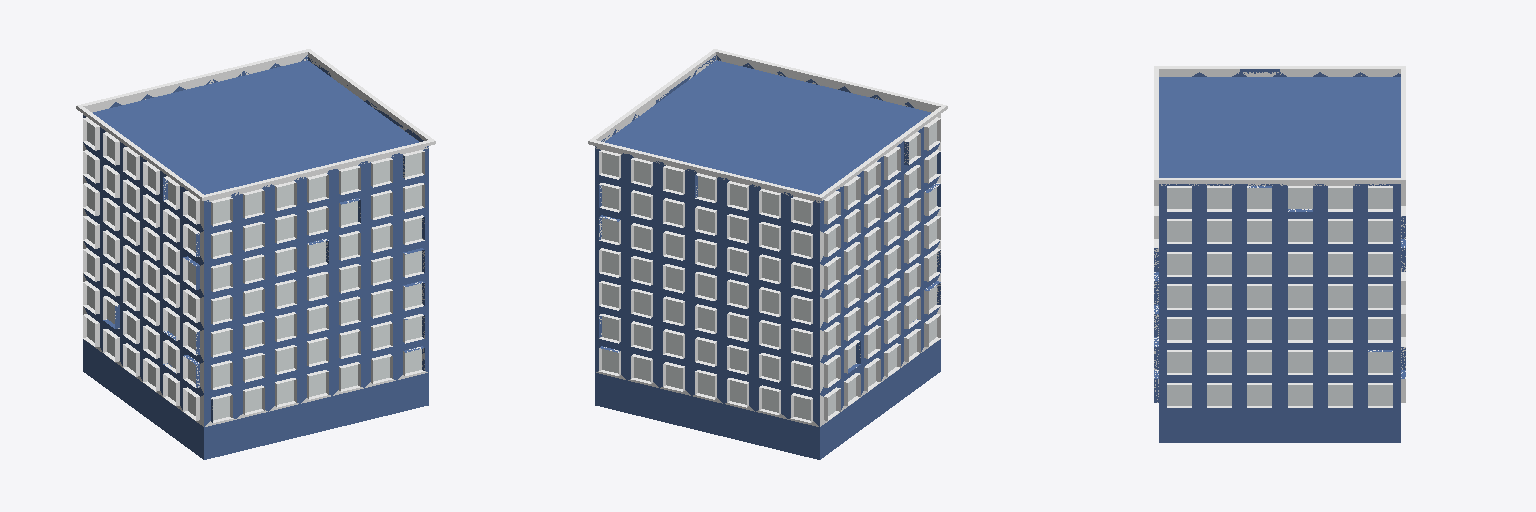
File: 蓝色大厦4.obj
3 renders of one model, left to right at view 1: azimuth 30°, elevation 25°; view 2: azimuth 150°, elevation 25°; view 3: azimuth 270°, elevation 25°, orthographic.
Parts seen in each view (by area): view 1: 左一大厦.1; view 2: 左一大厦.1; view 3: 左一大厦.1.
Boxes of the visible parts, <box> form: 左一大厦.1: <box>76,49,435,459</box>; 左一大厦.1: <box>588,49,947,459</box>; 左一大厦.1: <box>1154,66,1405,442</box>.
Bounding box in the file's own units: 2104 × 2287 × 1970.